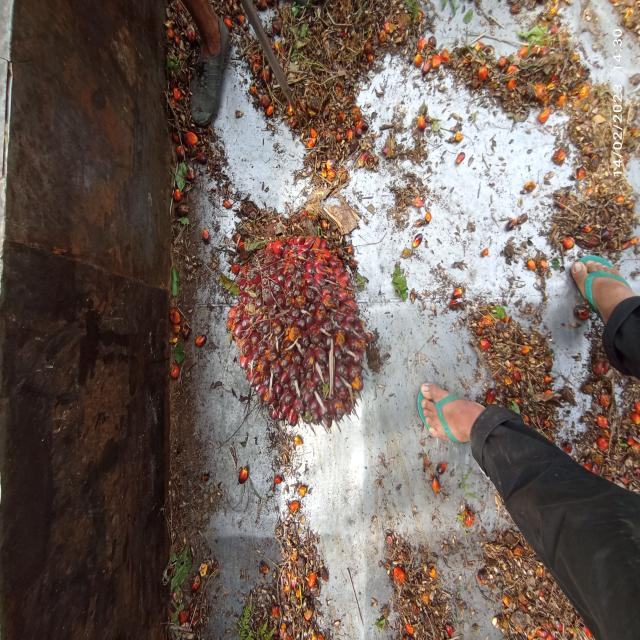fraksi 1: (216, 192, 380, 444)
